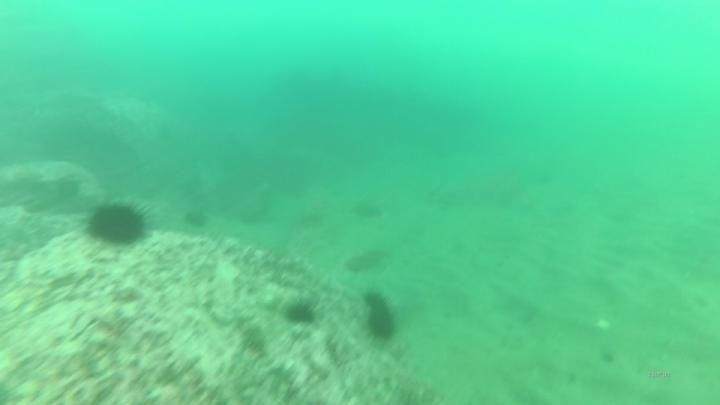echinus: (83, 198, 152, 250), (360, 291, 401, 345), (281, 297, 319, 329), (182, 206, 211, 232)
